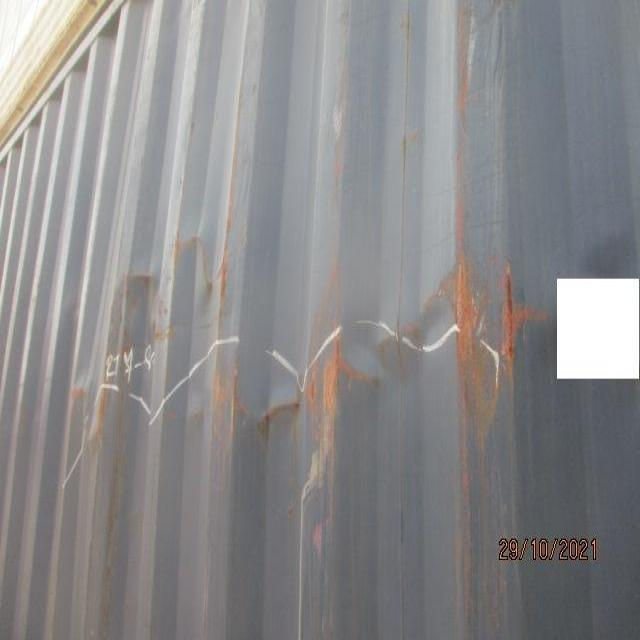Dent: (61, 177, 467, 479)
